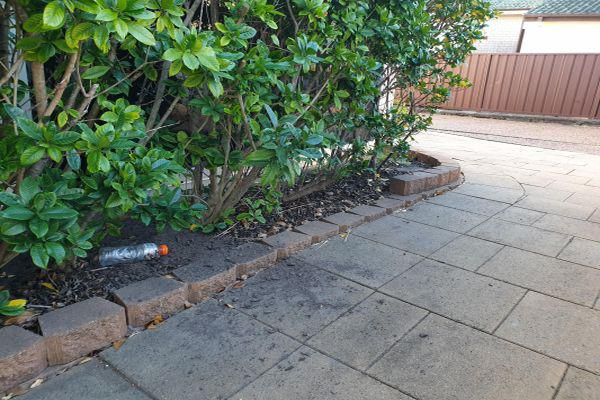Plastic Bottle: (97, 243, 169, 267)
